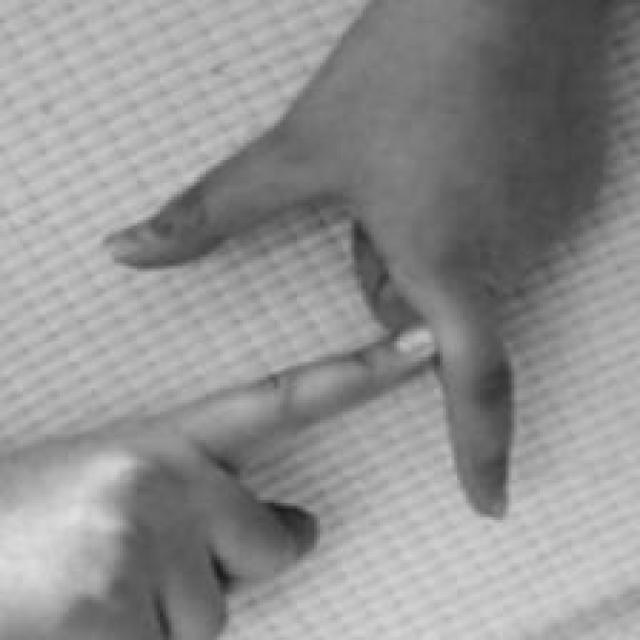F: (0, 0, 603, 637)
